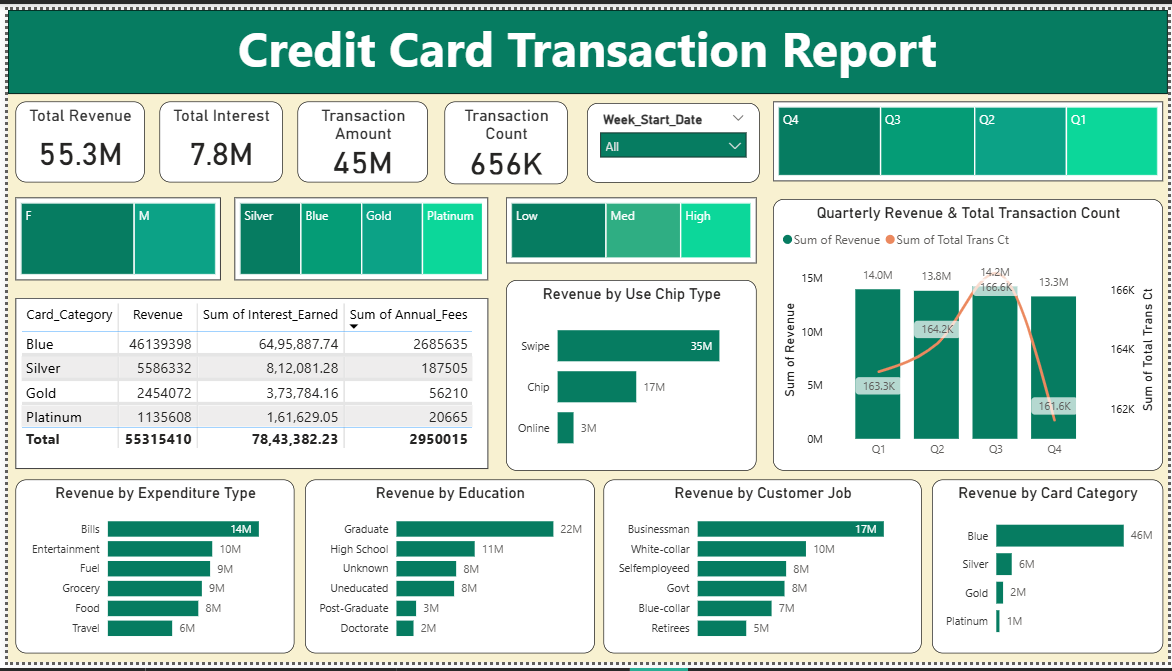

What the dashboard file says about the page in this screenshot:
{"tool":"powerbi","page":{"name":"Credit Card Transaction","canvas":[1280,720],"ordinal":0},"visuals":[{"type":"lineStackedColumnComboChart","title":"Quarterly Revenue & Total Transaction Count","fields":{"Category":["credit_card.Quarter"],"Y":["Sum(credit_card.Revenue)"],"Y2":["Sum(credit_card.Total_Trans_Vol)"]},"box":[844.8,208.7,430.7,299.8],"z":0},{"type":"textbox","box":[0,0,1280.5,92.8],"z":1000},{"type":"barChart","title":"Revenue by Expenditure Type","fields":{"Y":["Sum(credit_card.Revenue)"],"Category":["credit_card.Exp_Type"]},"box":[8.3,518.5,308.1,192.2],"z":2000},{"type":"barChart","title":"Revenue by Use Chip Type","fields":{"Y":["Sum(credit_card.Revenue)"],"Category":["credit_card.Use_Chip"]},"box":[550,298.2,276.6,210.4],"z":3000},{"type":"barChart","title":"Revenue by Card Category","fields":{"Y":["Sum(credit_card.Revenue)"],"Category":["credit_card.Card_Category"]},"box":[1020.4,518.5,255.1,192.2],"z":4000},{"type":"barChart","title":"Revenue by Customer Job","fields":{"Y":["Sum(credit_card.Revenue)"],"Category":["customer_details.Customer_Job"]},"box":[658.2,518.5,351.2,192.2],"z":5000},{"type":"barChart","title":"Revenue by Education","fields":{"Y":["Sum(credit_card.Revenue)"],"Category":["customer_details.Education_Level"]},"box":[327.4,518.5,319.7,192.2],"z":6000},{"type":"tableEx","fields":{"Values":["credit_card.Card_Category","Sum(credit_card.Revenue)","Sum(credit_card.Interest_Earned)","Sum(credit_card.Annual_Fees)"]},"box":[8.3,318,521.8,188.8],"z":7000},{"type":"card","title":"Total Revenue","fields":{"Values":["Sum(credit_card.Revenue)"]},"box":[8.3,101,142.5,89.4],"z":8000},{"type":"card","title":"Total Interest","fields":{"Values":["Sum(credit_card.Interest_Earned)"]},"box":[167.3,101,135.8,89.4],"z":9000},{"type":"card","title":"Transaction Amount","fields":{"Values":["Sum(credit_card.Total_Trans_Amt)"]},"box":[319.7,101,144.1,89.4],"z":10000},{"type":"card","title":"Transaction Count","fields":{"Values":["Sum(credit_card.Total_Trans_Vol)"]},"box":[482,101,135.8,91.1],"z":11000},{"type":"slicer","fields":{"Values":["credit_card.Week_Start_Date"]},"box":[639.4,102.7,190.5,87.8],"z":12000},{"type":"treemap","title":"Quarterly","fields":{"Group":["credit_card.Quarter"],"Values":["Avg(credit_card.Client_Num)"]},"box":[844.8,101,430.7,87.8],"z":13000},{"type":"treemap","fields":{"Group":["customer_details.Gender"],"Values":["CountNonNull(customer_details.Client_Num)"]},"box":[8.3,207.1,226.9,91.1],"z":14000},{"type":"treemap","fields":{"Group":["credit_card.Card_Category"],"Values":["Avg(customer_details.Client_Num)"]},"box":[250.1,207.1,279.9,91.1],"z":15000},{"type":"treemap","fields":{"Values":["CountNonNull(credit_card.Client_Num)"],"Group":["customer_details.Income_Group"]},"box":[550,207.1,276.6,72.9],"z":16000}]}

Visuals, with their boxes in screenshot pixels (x1, y1, x2, y2), scaled from the page's 1280x720 canvas onto the 1172x671 screenshot:
"Quarterly Revenue & Total Transaction Count" lineStackedColumnComboChart: 774:194:1168:474
textbox: 0:0:1171:86
"Revenue by Expenditure Type" barChart: 8:483:290:662
"Revenue by Use Chip Type" barChart: 504:278:757:474
"Revenue by Card Category" barChart: 934:483:1168:662
"Revenue by Customer Job" barChart: 603:483:924:662
"Revenue by Education" barChart: 300:483:593:662
tableEx - credit_card.Card_Category x Sum(credit_card.Revenue): 8:296:485:472
"Total Revenue" card: 8:94:138:177
"Total Interest" card: 153:94:278:177
"Transaction Amount" card: 293:94:425:177
"Transaction Count" card: 441:94:566:179
slicer - credit_card.Week_Start_Date: 585:96:760:178
"Quarterly" treemap: 774:94:1168:176
treemap - customer_details.Gender x CountNonNull(customer_details.Client_Num): 8:193:215:278
treemap - credit_card.Card_Category x Avg(customer_details.Client_Num): 229:193:485:278
treemap - CountNonNull(credit_card.Client_Num) x customer_details.Income_Group: 504:193:757:261
